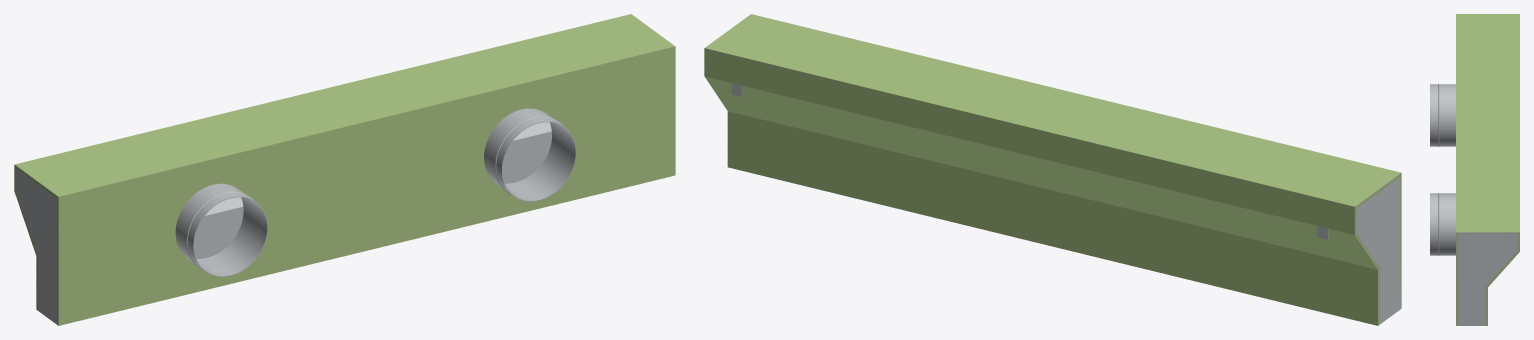
File: edl-plenum-trapezoidale-1200-posteriori.glb
3 renders of one model, left to right at view 1: azimuth 30°, elevation 25°; view 2: azimuth 150°, elevation 25°; view 3: azimuth 270°, elevation 25°, orthographic. The views are drawn at different scales.
Visible parts, largest first — view 1: Isolamento esterno.001, Stacco 2 Ø145.001, Stacco 1 Ø145.001, Lamiera interna.001, Testata sinistra.001; view 2: Isolamento esterno.001, Testata sinistra.001; view 3: Isolamento esterno.001, Testata destra.001, Stacco 1 Ø145.001, Stacco 2 Ø145.001, Stacco 1 Ø145 nervatura.001, Stacco 2 Ø145 nervatura.001.
Part boxes in pixels (box(x1,y1,x2,y2)): Isolamento esterno.001: box(14, 14, 675, 325); Stacco 2 Ø145.001: box(484, 108, 576, 201); Stacco 1 Ø145.001: box(175, 183, 267, 276); Lamiera interna.001: box(194, 122, 551, 258); Testata sinistra.001: box(14, 166, 59, 324); Isolamento esterno.001: box(704, 14, 1401, 325); Testata sinistra.001: box(1354, 172, 1401, 324); Isolamento esterno.001: box(1456, 14, 1519, 325); Testata destra.001: box(1456, 232, 1519, 325); Stacco 1 Ø145.001: box(1430, 84, 1455, 146); Stacco 2 Ø145.001: box(1430, 193, 1455, 255); Stacco 1 Ø145 nervatura.001: box(1438, 83, 1439, 146); Stacco 2 Ø145 nervatura.001: box(1438, 193, 1439, 256).
Bounding box in the file's own units: 1.2 × 0.24 × 0.209.
